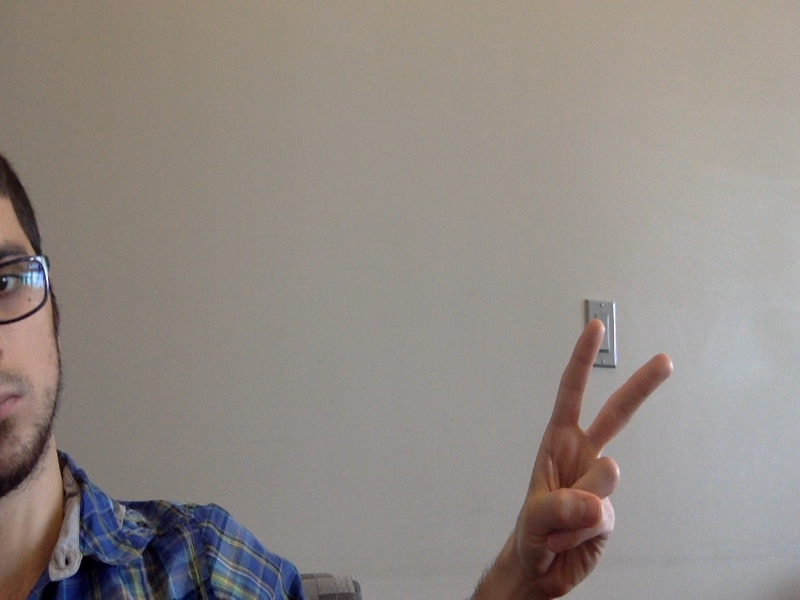2-hand: (507, 320, 675, 600)
